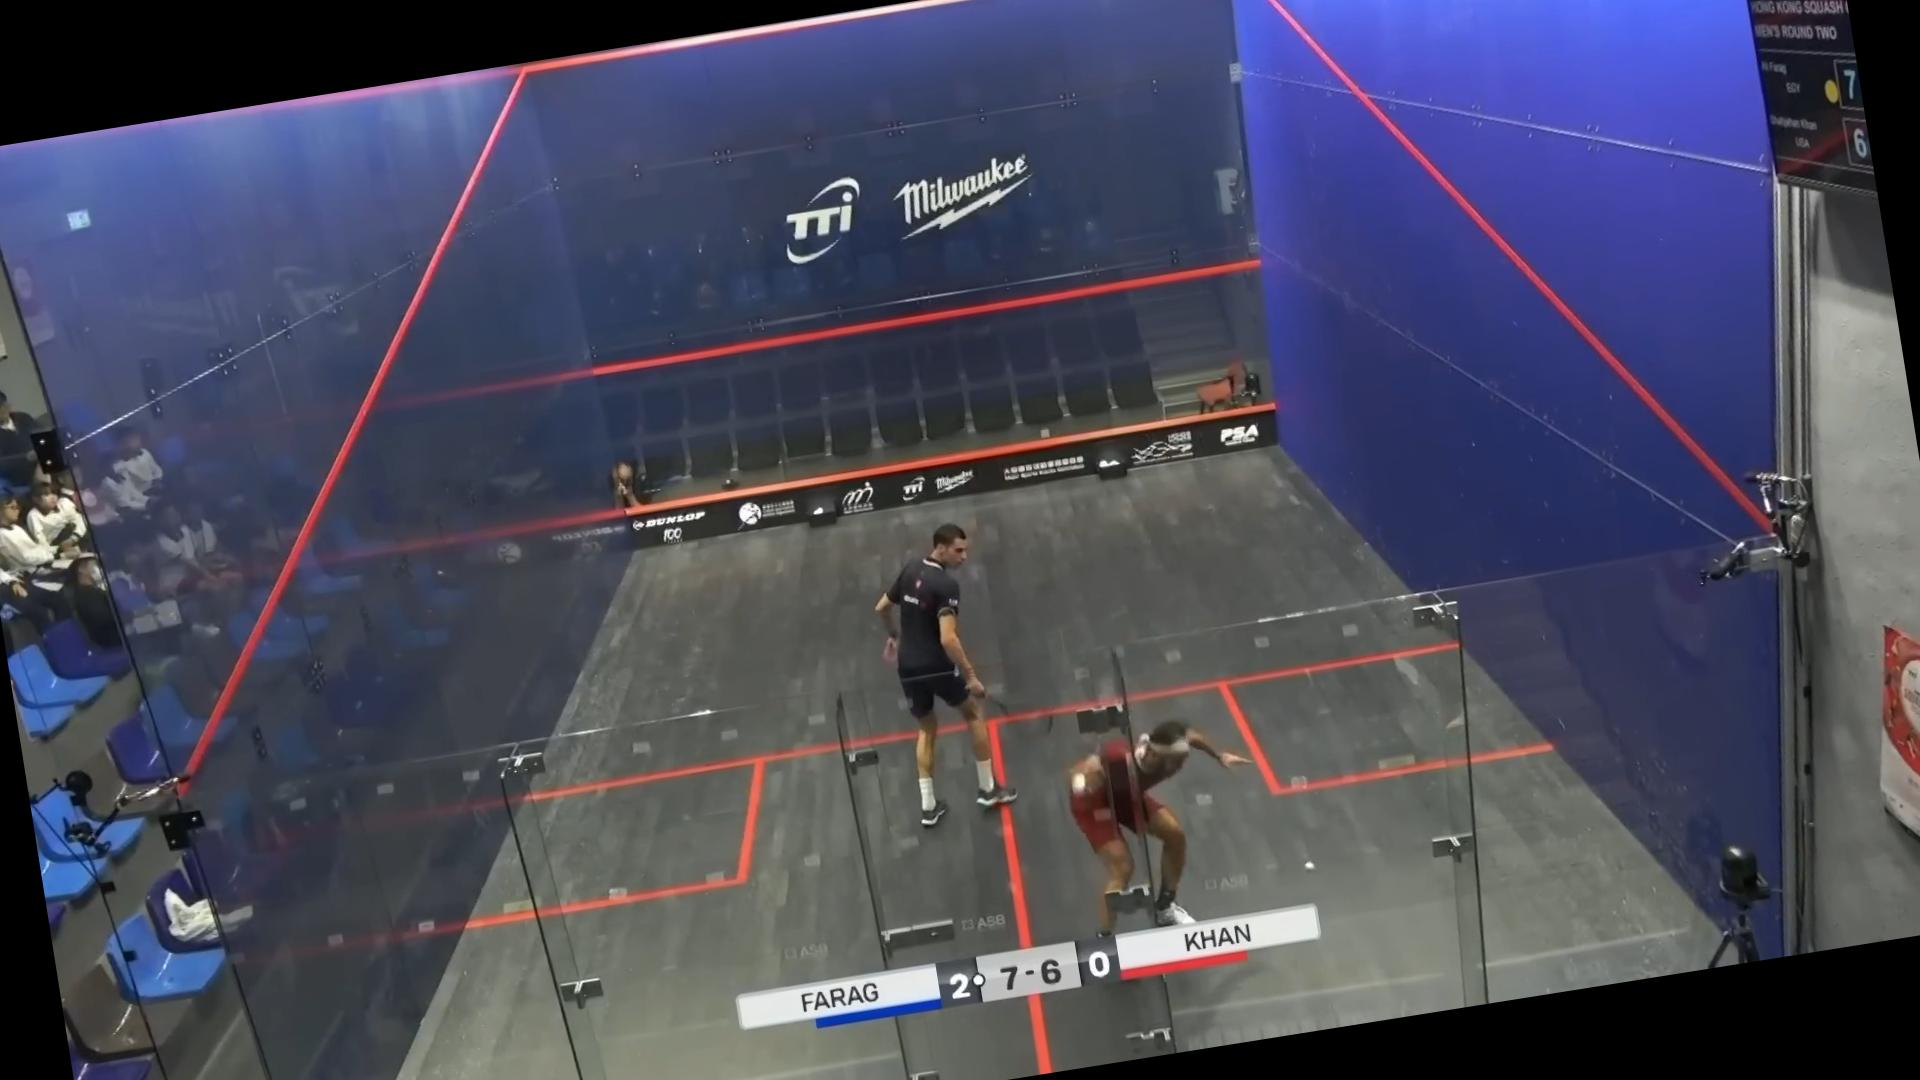Racket: (986, 692, 1076, 748)
